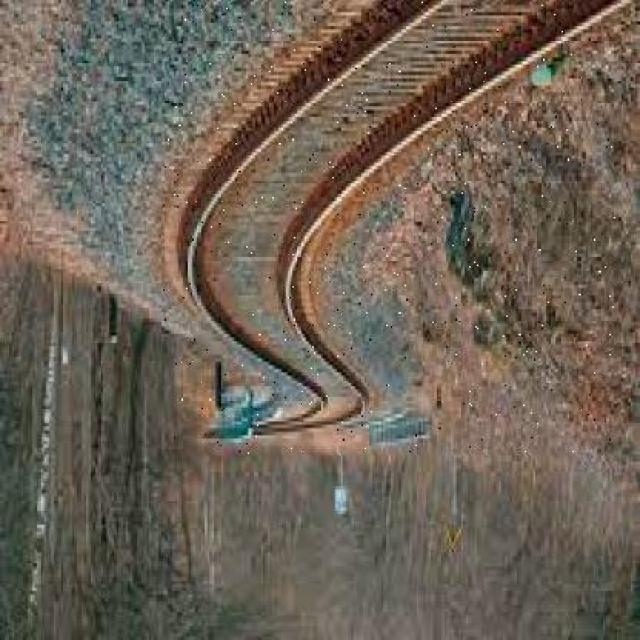rail: (162, 2, 615, 454)
